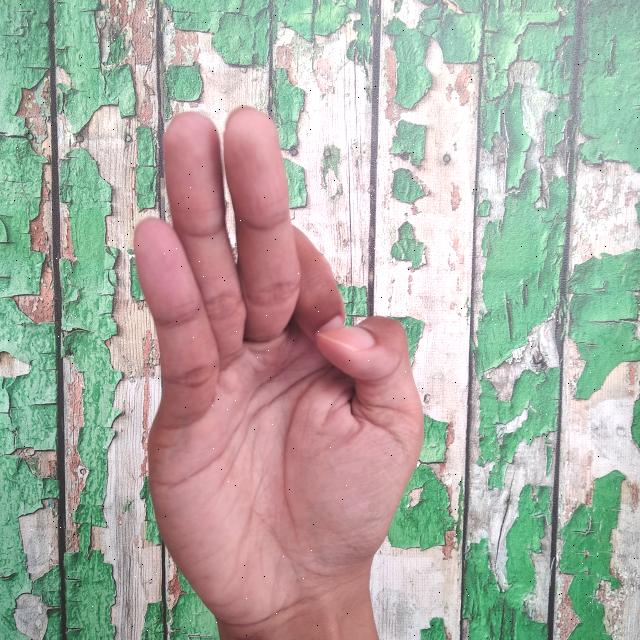F: (128, 100, 430, 640)
